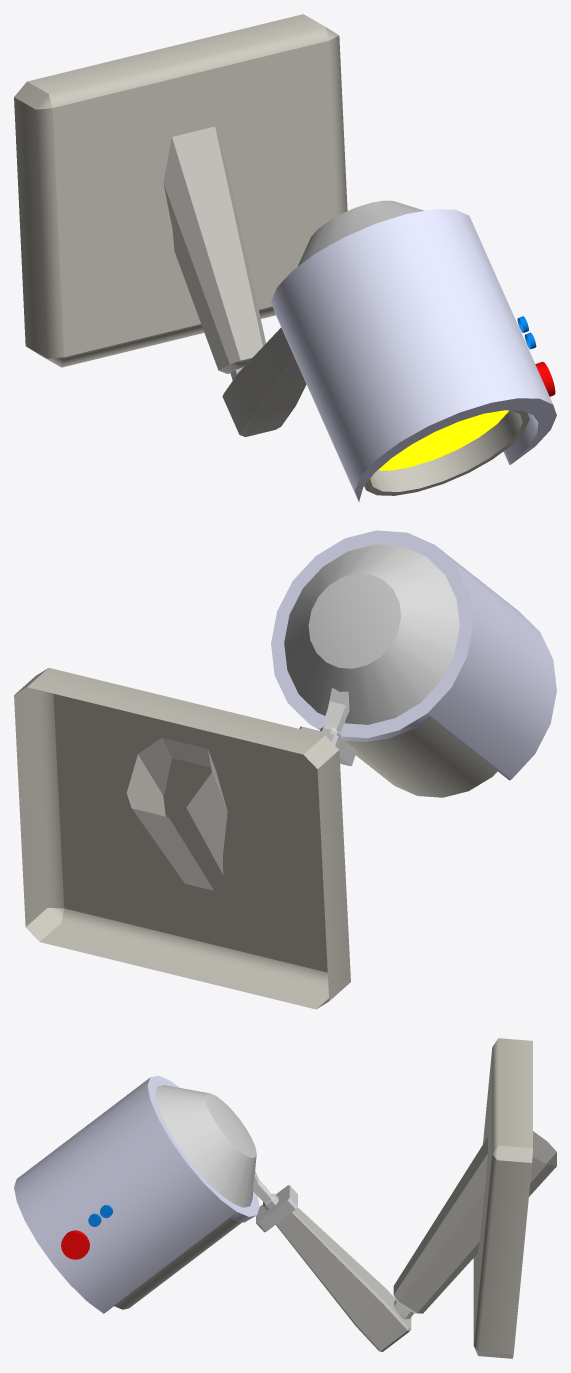
Rendered from camera_model.fbx.
3 renders of one model, top to bottom at view 1: azimuth 30°, elevation 25°; view 2: azimuth 150°, elevation 25°; view 3: azimuth 270°, elevation 25°, orthographic. The views are drawn at different scales.
Visible parts, largest first — view 1: Base_model, Top_part, bone_union, Main_part, bone, behind; view 2: Base_model, behind, Top_part, bone_union, Main_part, Union; view 3: Top_part, Base_model, bone_union, behind, bone, Main_part, box, Big_circle.
Boxes of the visible parts, left/top/right/bottom form: Base_model: left=14, top=14, right=347, bottom=367; Top_part: left=271, top=209, right=556, bottom=501; bone_union: left=163, top=126, right=265, bottom=373; Main_part: left=364, top=410, right=529, bottom=495; bone: left=222, top=327, right=306, bottom=436; behind: left=298, top=200, right=424, bottom=266; Base_model: left=14, top=668, right=350, bottom=1009; behind: left=284, top=544, right=459, bottom=724; Top_part: left=271, top=530, right=556, bottom=780; bone_union: left=126, top=737, right=227, bottom=890; Main_part: left=344, top=719, right=497, bottom=797; Union: left=322, top=687, right=349, bottom=732; Top_part: left=14, top=1075, right=259, bottom=1313; Base_model: left=473, top=1038, right=532, bottom=1358; bone_union: left=393, top=1131, right=556, bottom=1313; behind: left=155, top=1085, right=256, bottom=1207; bone: left=276, top=1207, right=411, bottom=1351; Main_part: left=114, top=1218, right=241, bottom=1309; box: left=256, top=1185, right=297, bottom=1232; Big_circle: left=61, top=1230, right=89, bottom=1259.
Bounding box in the file's own units: 1.11 × 1.15 × 2.17.
